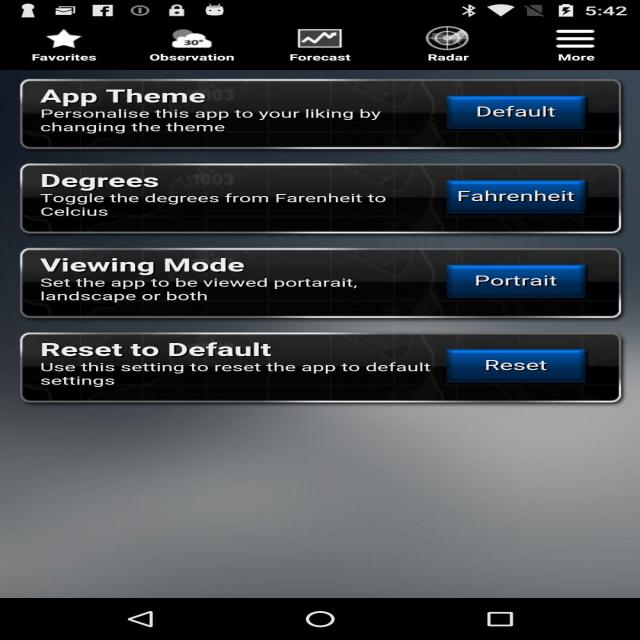button: (446, 94, 595, 134), (452, 349, 595, 384), (452, 182, 595, 212), (452, 267, 586, 298)
icon: (29, 28, 118, 62), (542, 26, 612, 65), (414, 27, 480, 67), (291, 24, 356, 64), (158, 30, 220, 66)
text: (19, 330, 437, 398), (26, 163, 408, 230), (26, 80, 408, 144), (18, 255, 402, 312)
